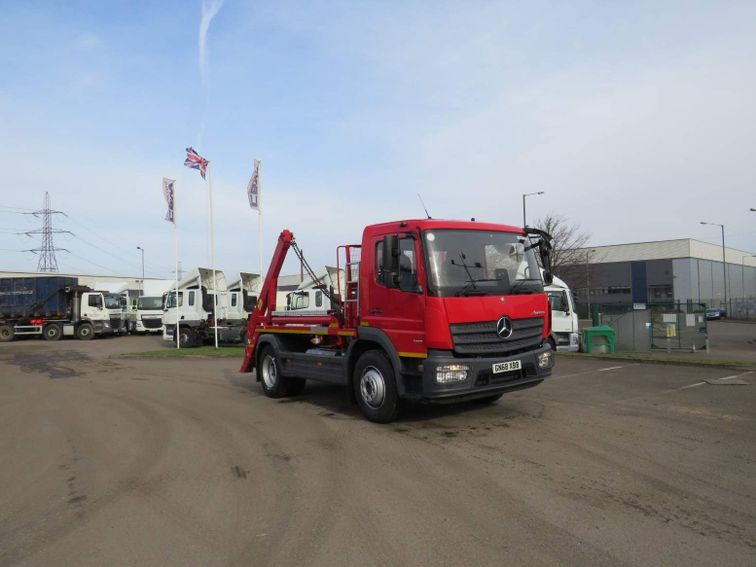Semi: (239, 219, 555, 422), (0, 275, 112, 340)
